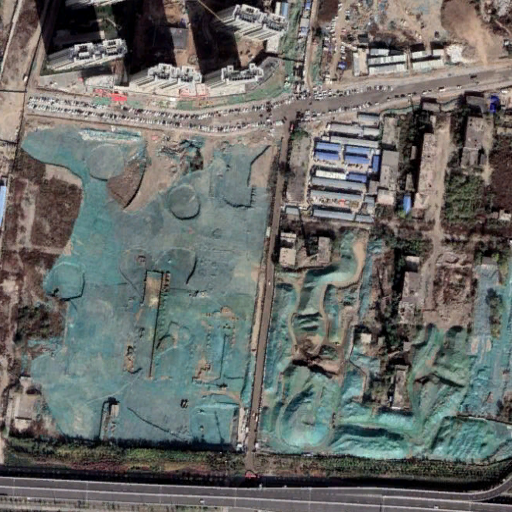cw: (15, 115, 273, 455), (264, 235, 512, 459)
